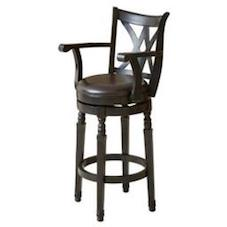chair: (43, 1, 189, 222)
